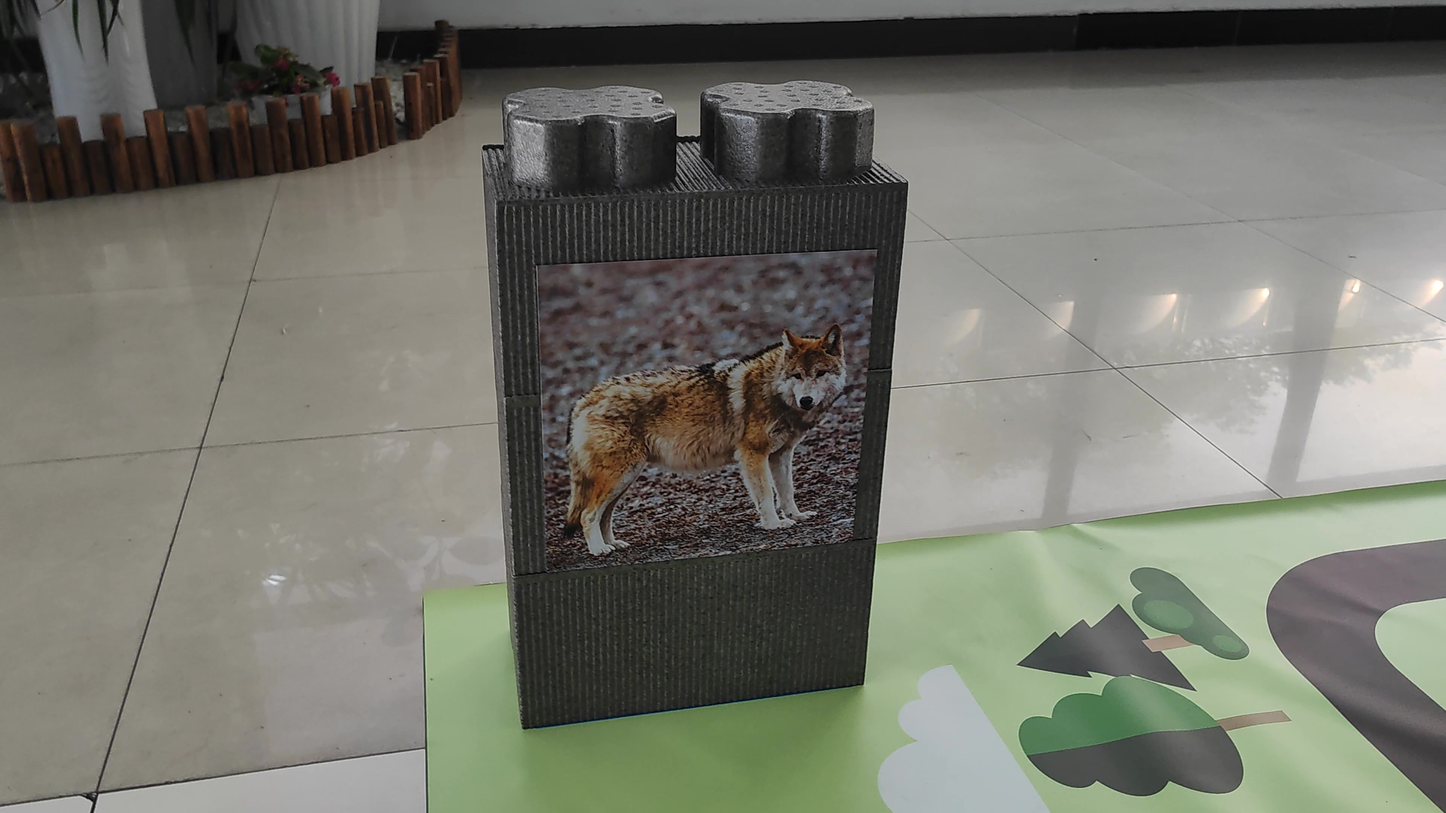wolf: (541, 306, 850, 577)
